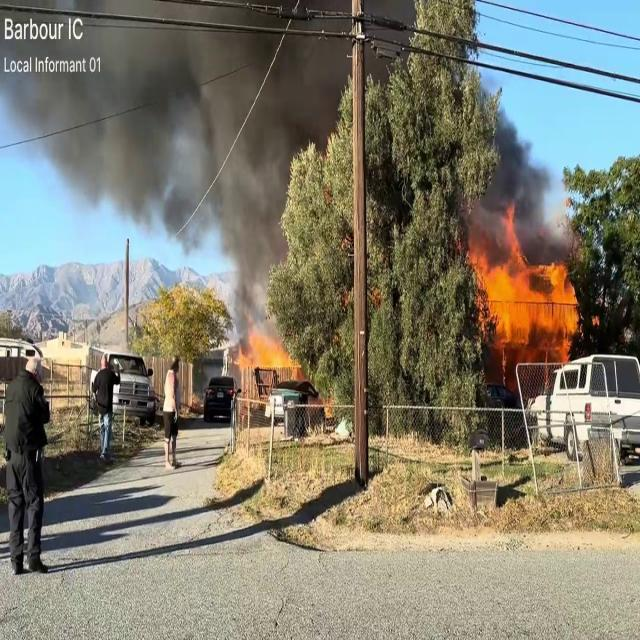Fire: (468, 236, 582, 352), (234, 330, 293, 378)
Smoke: (0, 0, 336, 306), (471, 86, 568, 256)
